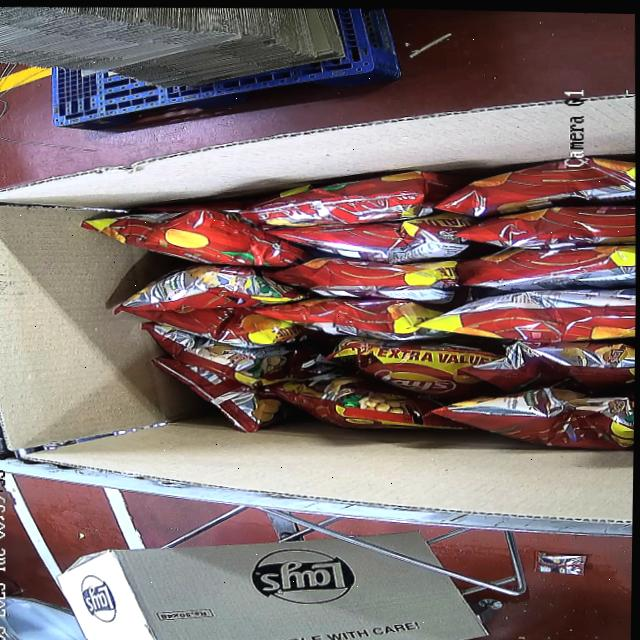MASALA: (76, 142, 638, 458)
